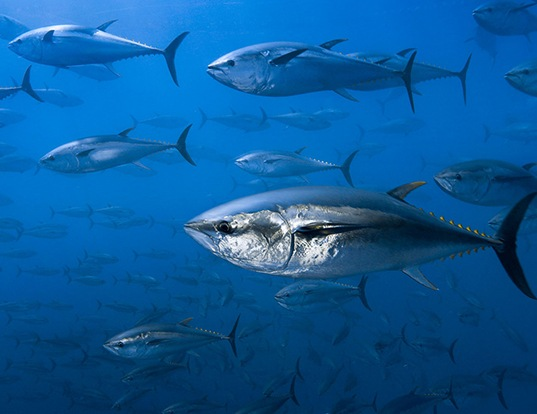Bluefina Tuna: (178, 143, 537, 302), (207, 19, 417, 110), (2, 11, 199, 97), (42, 122, 202, 180), (94, 310, 244, 367)
